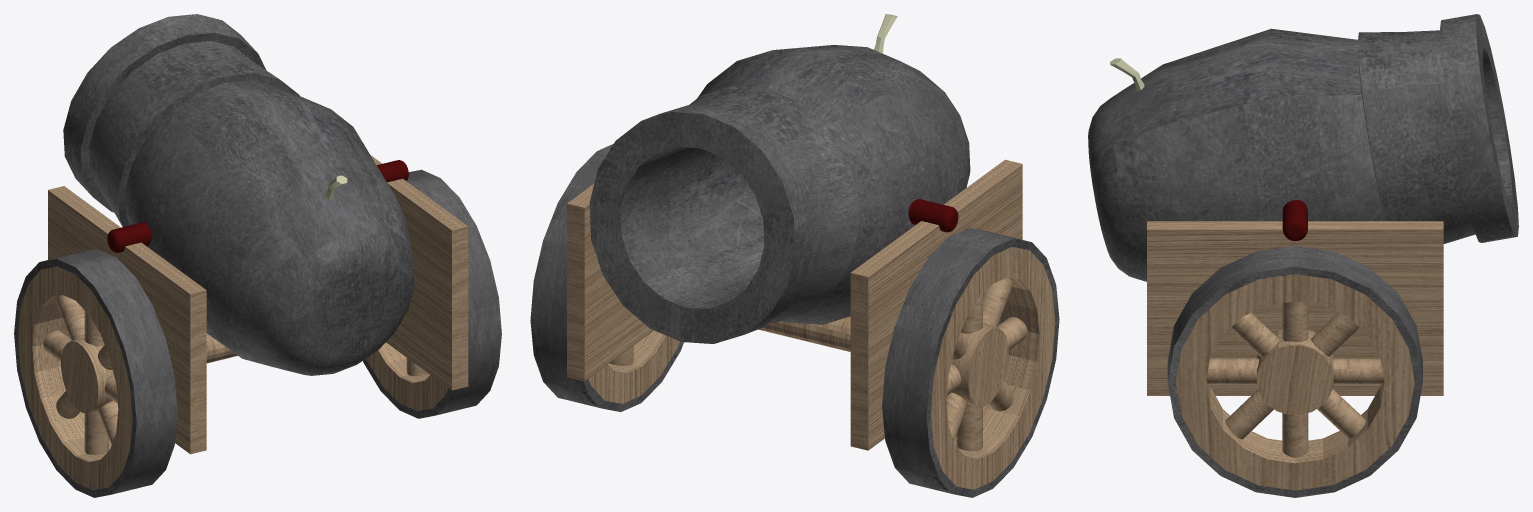
Rendered from KR_Model_Cannon_v06_Vang.fbx.
3 renders of one model, left to right at view 1: azimuth 30°, elevation 25°; view 2: azimuth 150°, elevation 25°; view 3: azimuth 270°, elevation 25°, orthographic. The views are drawn at different scales.
Visible parts, largest first — view 1: cannon, LeftW, plank1, plank, RightW, pCylinder1, pCylinder4, pCylinder2, metalholder1, pCylinder3, pCylinder5; view 2: cannon, LeftW, plank1, RightW, plank, pCylinder1 (×2), pCylinder5, pCylinder2, metalholder1, pCylinder3, pCylinder4; view 3: cannon, RightW, plank, pCylinder1, pCylinder3, pCylinder4, pCylinder5, pCylinder2, metalholder.
Boxes of the visible parts, x1,y1,x2,y2 form: cannon: (63, 14, 414, 375); LeftW: (14, 249, 177, 497); plank1: (48, 186, 206, 454); plank: (370, 155, 468, 390); RightW: (363, 169, 501, 418); pCylinder1: (61, 337, 113, 413); pCylinder4: (56, 295, 118, 444); pCylinder2: (84, 310, 108, 454); metalholder1: (107, 222, 151, 252); pCylinder3: (43, 331, 117, 403); pCylinder5: (56, 345, 112, 418); cannon: (589, 45, 970, 343); LeftW: (882, 228, 1059, 497); plank1: (850, 159, 1022, 450); RightW: (530, 144, 683, 411); plank: (567, 184, 653, 381); pCylinder1 (×2): (758, 316, 1008, 406); pCylinder5: (946, 278, 1013, 440); pCylinder2: (956, 294, 982, 450); metalholder1: (908, 199, 958, 232); pCylinder3: (947, 317, 1027, 395); pCylinder4: (952, 332, 1014, 411); cannon: (1088, 14, 1518, 281); RightW: (1167, 246, 1422, 497); plank: (1147, 221, 1443, 395); pCylinder1: (1256, 330, 1333, 414); pCylinder3: (1206, 358, 1383, 384); pCylinder4: (1230, 313, 1365, 438); pCylinder5: (1225, 312, 1359, 439); pCylinder2: (1282, 301, 1308, 457); metalholder: (1282, 200, 1307, 241).
Size of the model in its own units: 2.85 by 2.72 by 2.8.
4 materials, 2 textured.
